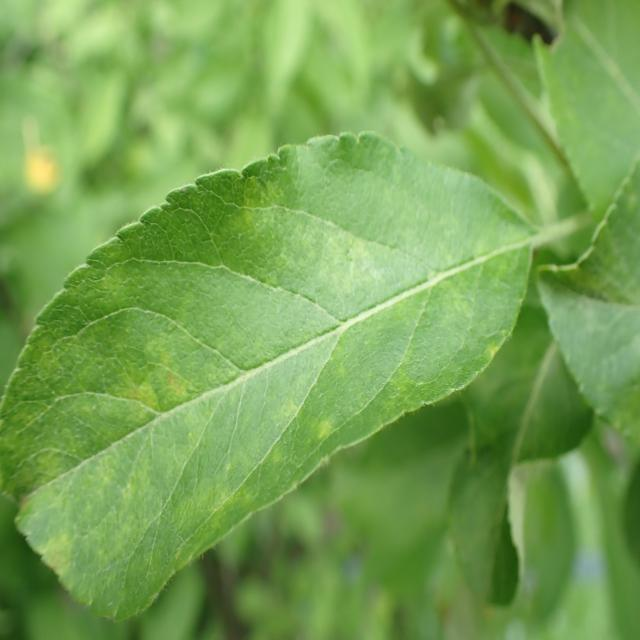scab: (0, 171, 520, 589)
